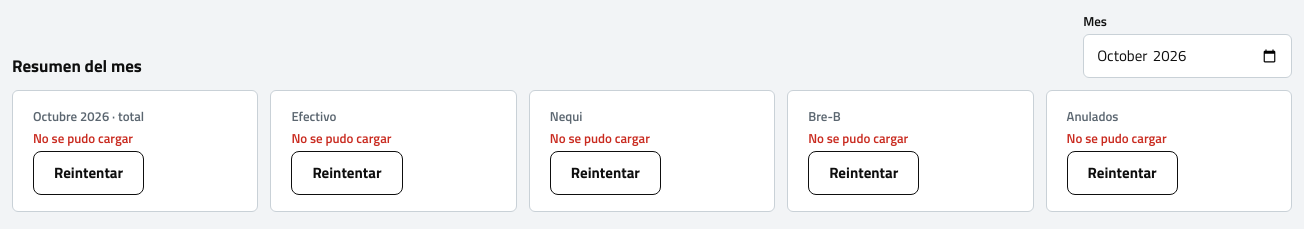
Test: MonthSummary · errores › otro error deja Reintentar en las tarjetas y vuelve a pedir el resumen
Expected: the text "No se pudo cargar" below "Octubre 2026 · total" is shown, left=33, top=128, right=133, bottom=148
Click the button "Reintentar" below "Octubre 2026 · total" at coordinates (89, 173), box left=33, top=151, right=144, bottom=195
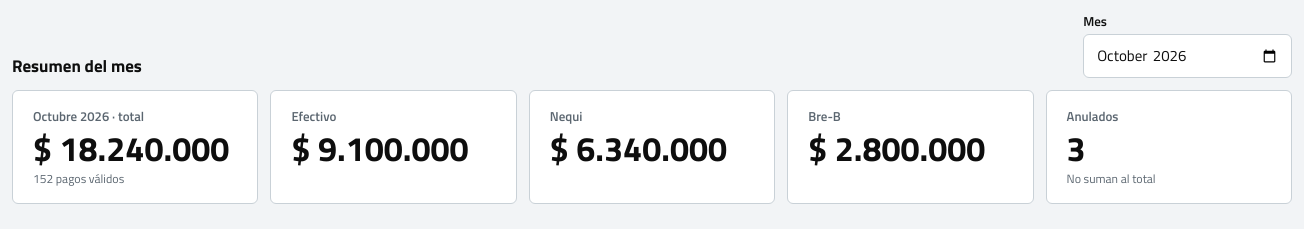
Result: the text "$ 18.240.000" is shown at left=33, top=129, right=237, bottom=167
